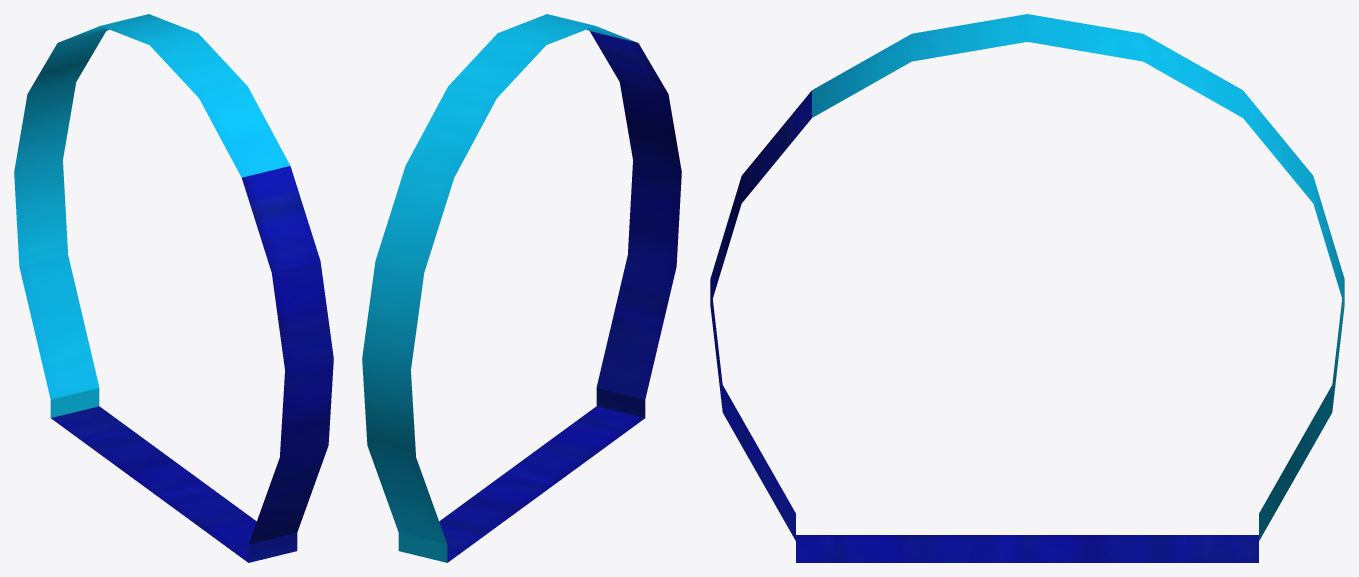
The model's file is original-14.obj.
3 views of the same model, side by side, from view 1: azimuth 30°, elevation 25°; view 2: azimuth 150°, elevation 25°; view 3: azimuth 270°, elevation 25° (orthographic). The views are drawn at different scales.
Visible parts, largest first — view 1: #ID19; view 2: #ID19; view 3: #ID19.
Part boxes in pixels (left/top/right/bottom): #ID19: left=14, top=14, right=333, bottom=562; #ID19: left=362, top=14, right=681, bottom=562; #ID19: left=710, top=14, right=1344, bottom=562.
Bounding box in the file's own units: 0.00625 × 0.0545 × 0.0601.
